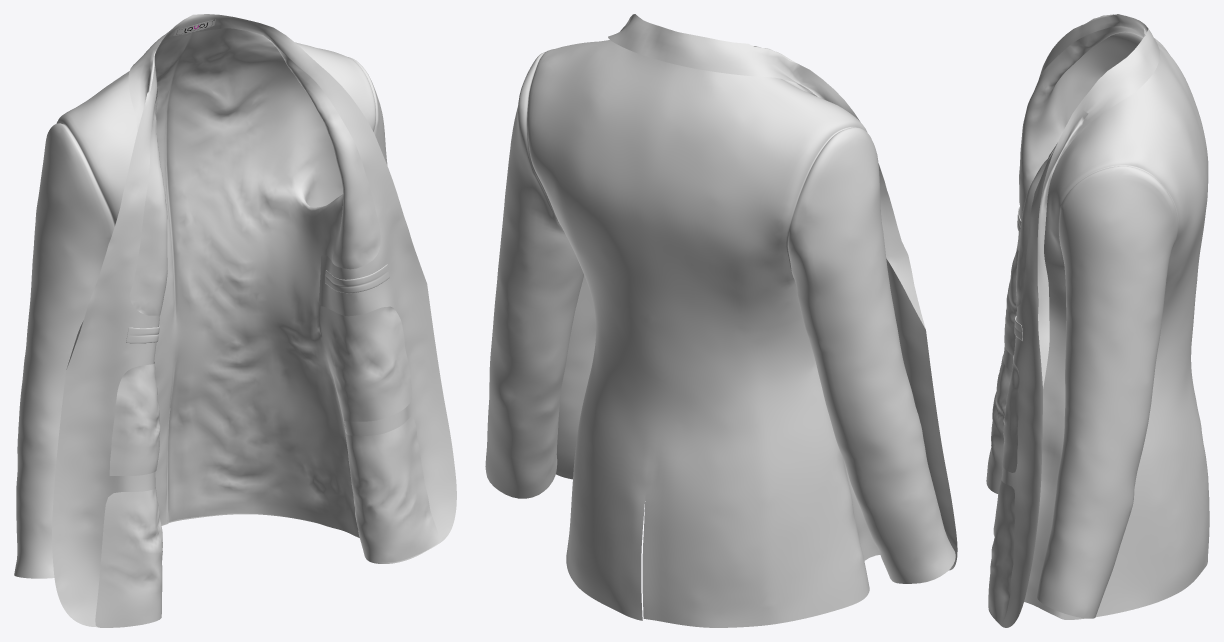
Rendered from open_lining_centre_vent.glb.
3 renders of one model, left to right at view 1: azimuth 30°, elevation 25°; view 2: azimuth 150°, elevation 25°; view 3: azimuth 270°, elevation 25°, orthographic. The views are drawn at different scales.
Parts seen in each view (by area): view 1: suit_lining_01, suit_01; view 2: suit_01; view 3: suit_01, suit_lining_01.
Part boxes in pixels (<box>): suit_lining_01: <box>95,28,439,627</box>; suit_01: <box>14,14,456,627</box>; suit_01: <box>485,14,957,627</box>; suit_01: <box>988,14,1209,627</box>; suit_lining_01: <box>986,26,1144,623</box>.
Bounding box in the file's own units: 65.06 × 76.54 × 29.28.
3 materials, 1 textured.
